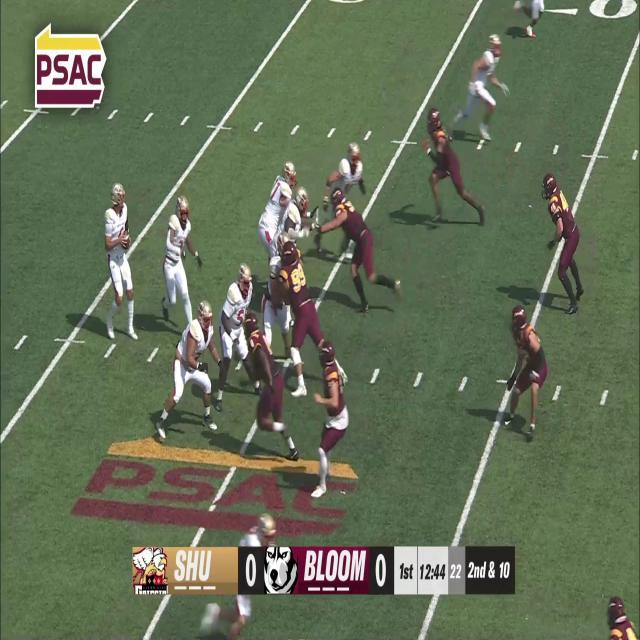football: (122, 230, 132, 252)
